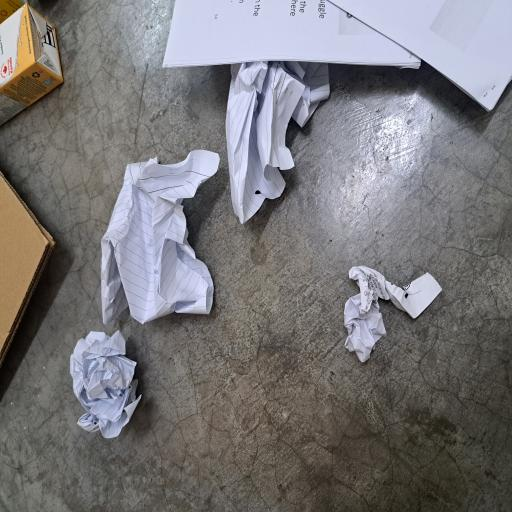cardboard: (103, 0, 262, 77)
drink carton: (286, 0, 384, 87)
paper: (298, 217, 384, 512), (140, 133, 272, 293), (217, 302, 340, 440), (55, 92, 137, 190), (113, 458, 185, 512)
